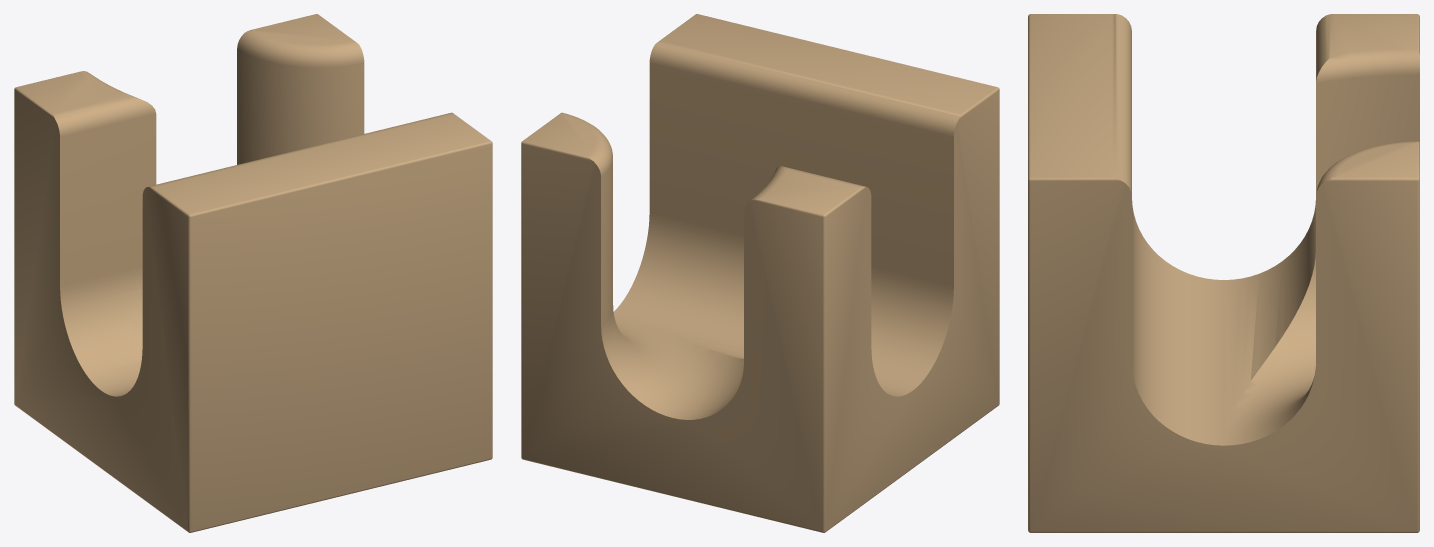
File: blk_join_l1.glb
3 renders of one model, left to right at view 1: azimuth 30°, elevation 25°; view 2: azimuth 150°, elevation 25°; view 3: azimuth 270°, elevation 25°, orthographic. The views are drawn at different scales.
Visible parts, largest first — view 1: blk_join_l1_lod0; view 2: blk_join_l1_lod0; view 3: blk_join_l1_lod0.
Boxes of the visible parts, x1,y1,x2,y2 form: blk_join_l1_lod0: (14,14,492,532); blk_join_l1_lod0: (521,14,999,532); blk_join_l1_lod0: (1028,14,1419,532).
Size of what is drawn, in the model's own units: 0.0596 by 0.0596 by 0.0596.
